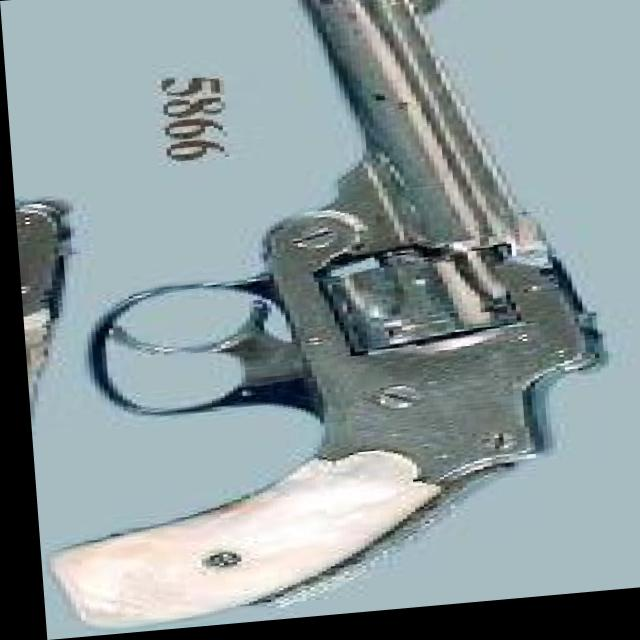handgun: (23, 0, 629, 638)
